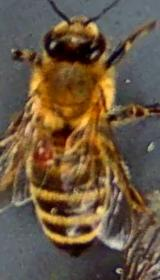varroa_mite: (22, 130, 64, 175)
